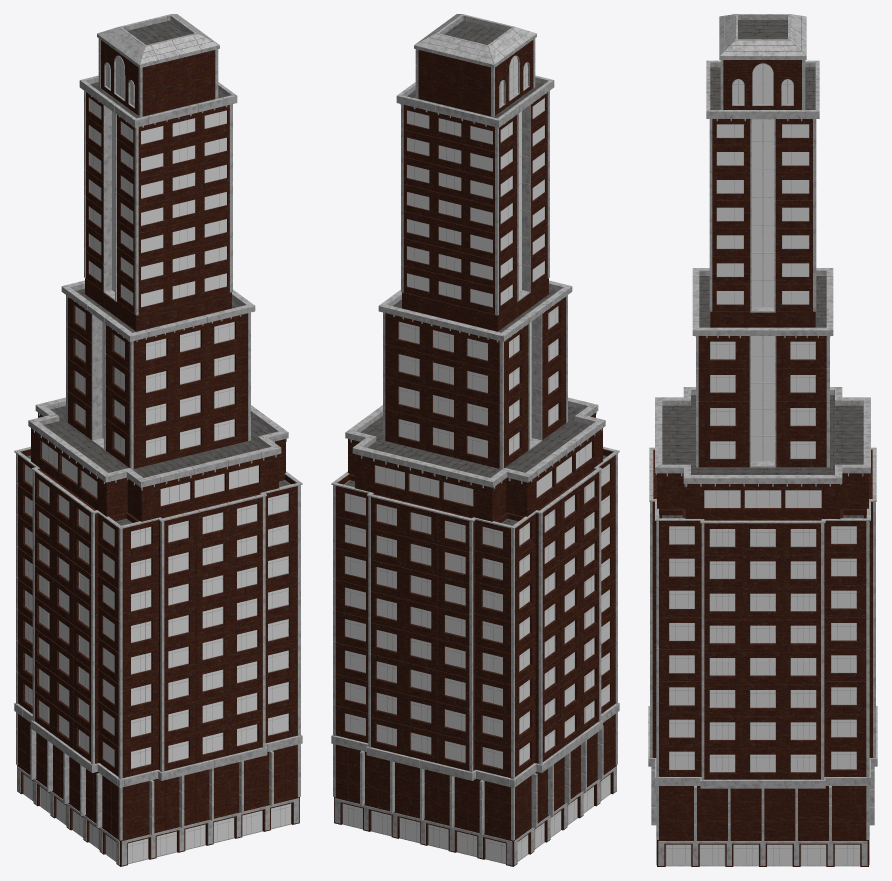
Rendered from Building_01.fbx.
3 renders of one model, left to right at view 1: azimuth 30°, elevation 25°; view 2: azimuth 150°, elevation 25°; view 3: azimuth 270°, elevation 25°, orthographic. The views are drawn at different scales.
Parts seen in each view (by area): view 1: Building_01_LOD0; view 2: Building_01_LOD0; view 3: Building_01_LOD0.
Part boxes in pixels (x1,y1,x2,y2): Building_01_LOD0: (14, 14, 302, 866); Building_01_LOD0: (331, 14, 619, 866); Building_01_LOD0: (648, 14, 877, 866).
Size of what is drawn, in the model's own units: 2551 by 9772 by 2551.
